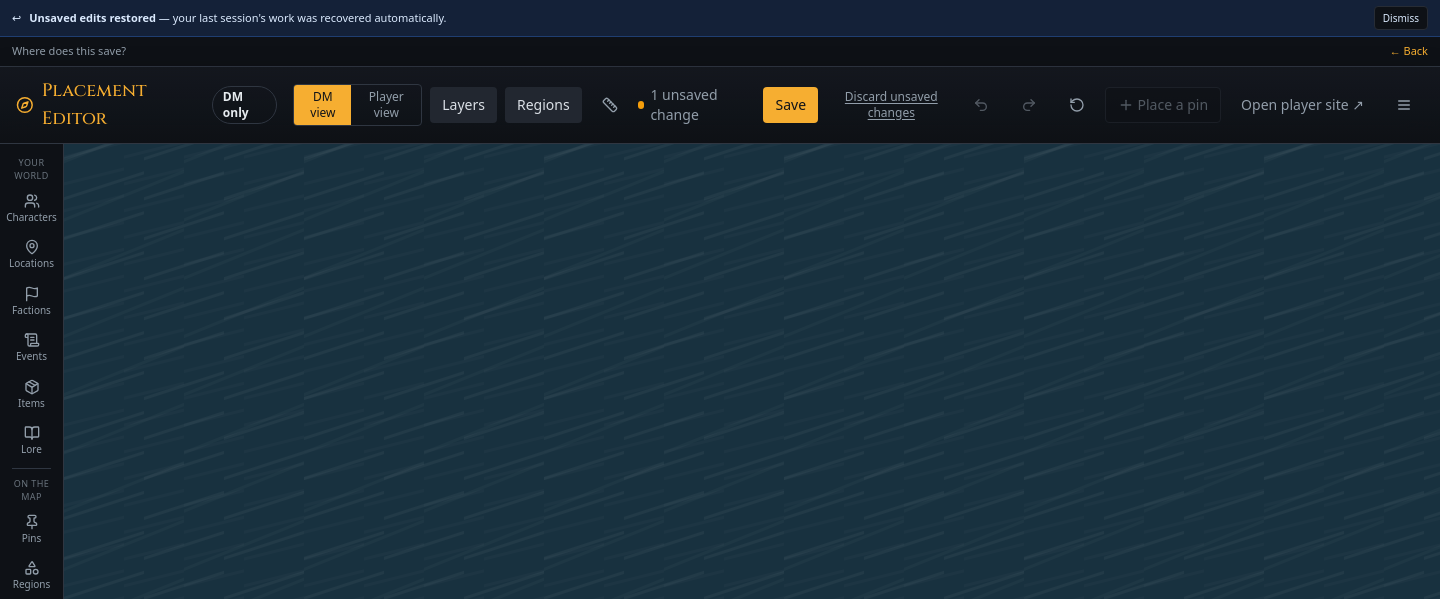
world.yaml save conflict › when recovery fails, the conflict error stays and the chip says Save failed
This screenshot has width=1440, height=599.
Click the button "Save" at (791, 104), box [764,86,818,122]
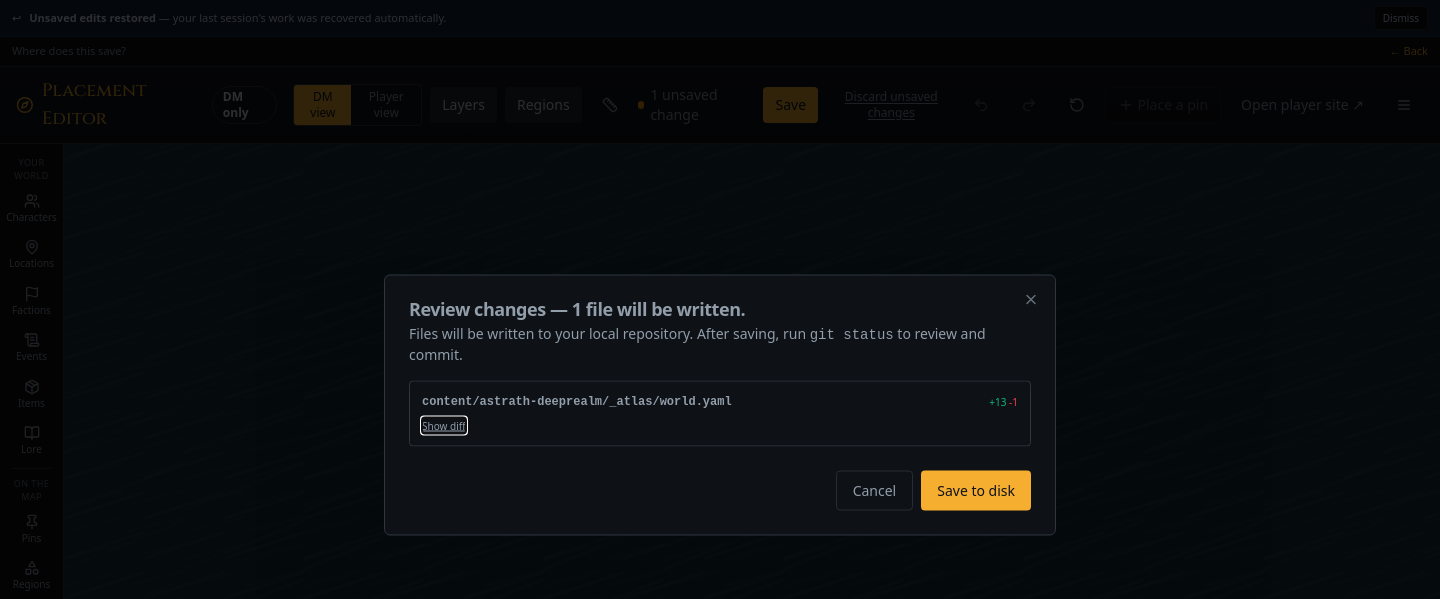
Expected: the text "content/astrath-deeprealm/_atlas/world.yaml" is shown, [422,394,732,410]
Click the button "Save to disk" at (976, 490), box [921,470,1031,510]
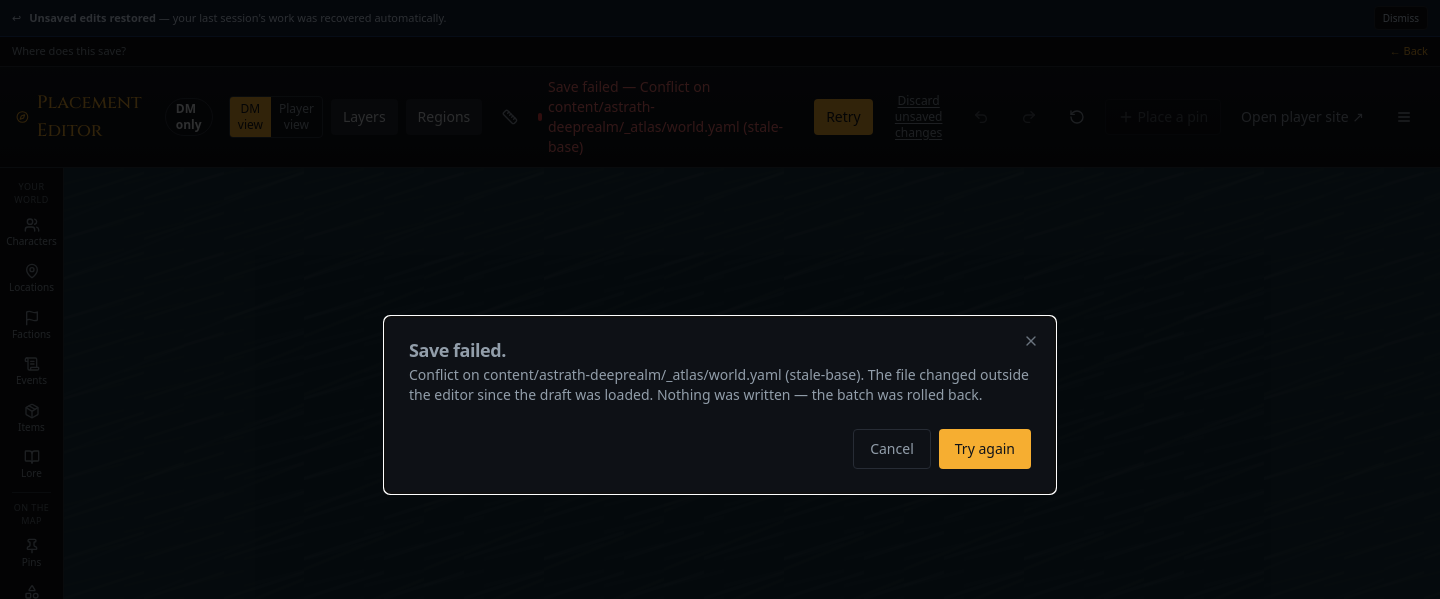
Expected: the text "the batch was rolled back" is shown, [409,365,1029,404]
Expected: the text "Save failed — Conflict" is shown, [548,76,783,156]
